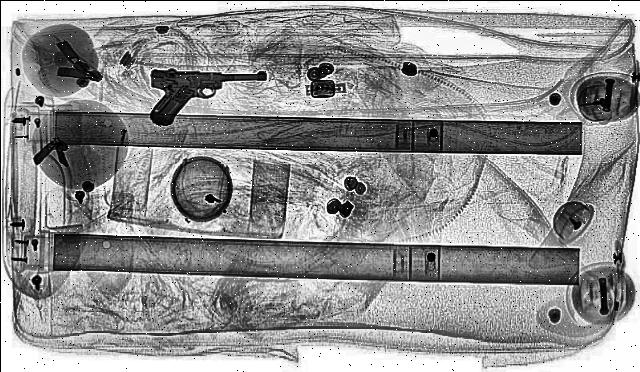Gun: (146, 70, 270, 126)
